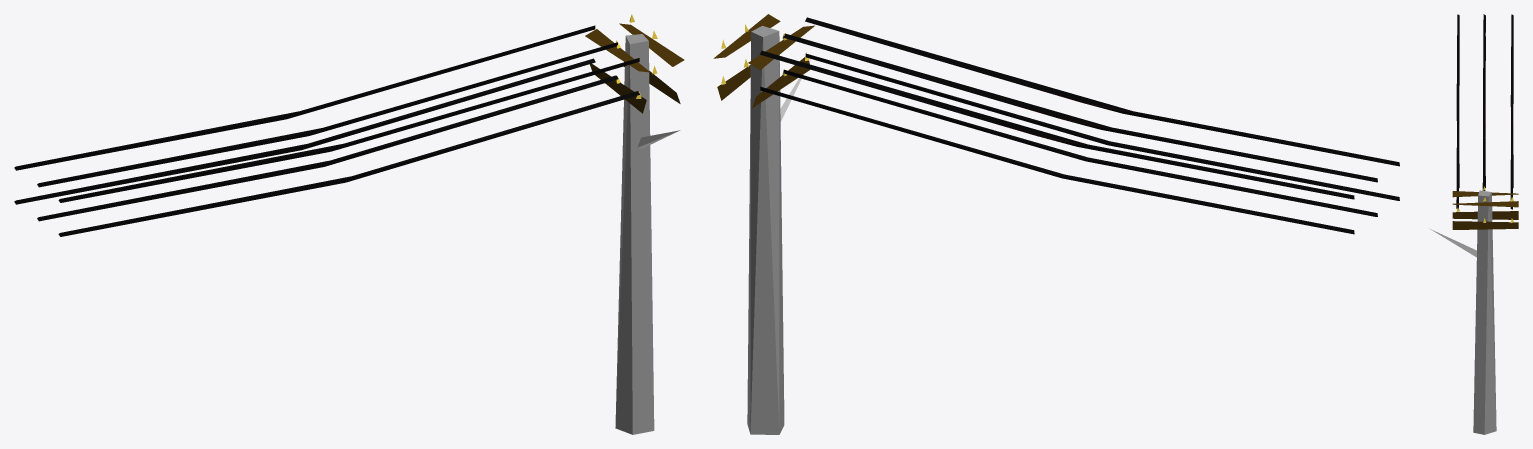
The model's file is PosteDeLuzFiosLadoEsquerdoLOD2.fbx.
The picture shows the model from 3 angles, left to right: view 1: azimuth 30°, elevation 25°; view 2: azimuth 150°, elevation 25°; view 3: azimuth 270°, elevation 25°; orthographic projection. The views are drawn at different scales.
Visible parts, largest first — view 1: PosteDeLuzFiosLadoEsquerdoLOD2; view 2: PosteDeLuzFiosLadoEsquerdoLOD2; view 3: PosteDeLuzFiosLadoEsquerdoLOD2.
Boxes of the visible parts, x1,y1,x2,y2 form: PosteDeLuzFiosLadoEsquerdoLOD2: (14, 14, 684, 434); PosteDeLuzFiosLadoEsquerdoLOD2: (713, 14, 1399, 434); PosteDeLuzFiosLadoEsquerdoLOD2: (1429, 14, 1518, 434).
Size of the model in its own units: 1215 by 733 by 250.
